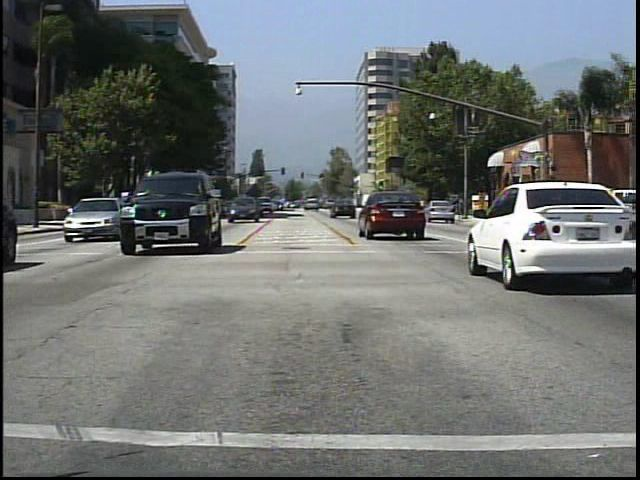person: (550, 190, 570, 229), (502, 188, 519, 224)
